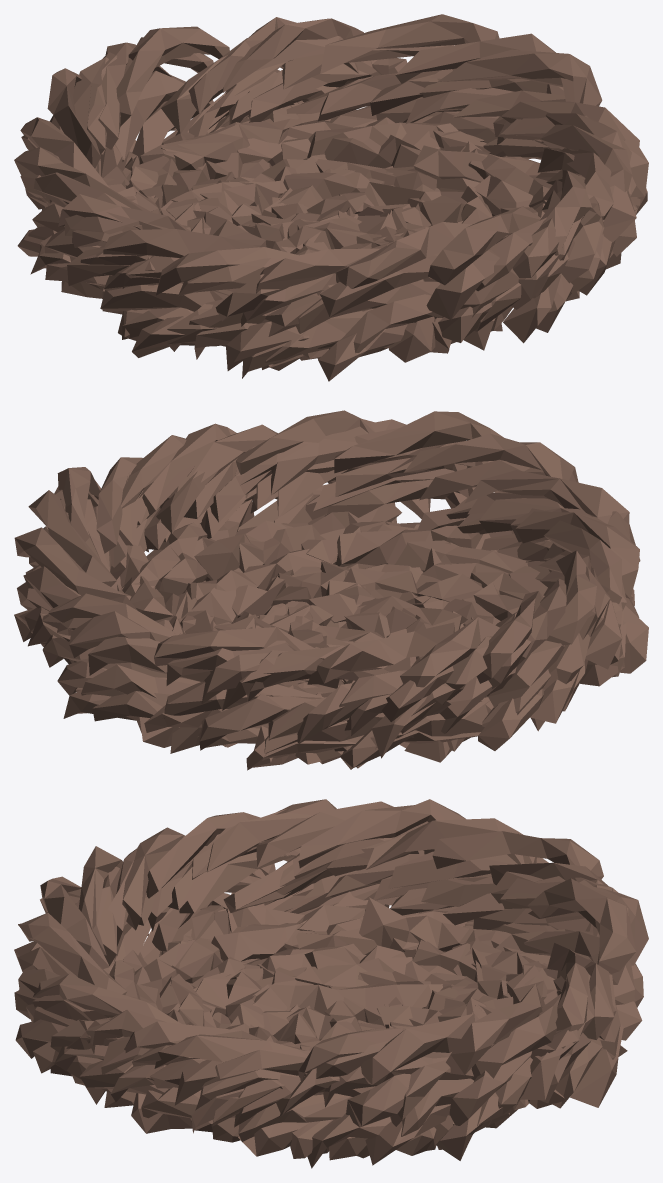
Rendered from Nest_11.fbx.
3 renders of one model, top to bottom at view 1: azimuth 30°, elevation 25°; view 2: azimuth 150°, elevation 25°; view 3: azimuth 270°, elevation 25°, orthographic.
Visible parts, largest first — view 1: Nest_11_LOD0.001; view 2: Nest_11_LOD0.001; view 3: Nest_11_LOD0.001.
Part boxes in pixels (box(x1,y1,x2,y2)): Nest_11_LOD0.001: box(14, 14, 648, 381); Nest_11_LOD0.001: box(14, 410, 648, 770); Nest_11_LOD0.001: box(14, 799, 648, 1168).
Size of what is drawn, in the model's own units: 85.5 by 24.08 by 84.93.
